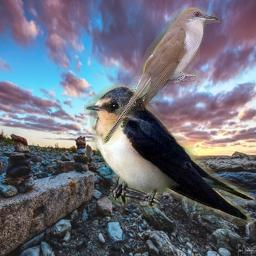Cuckoo: (102, 7, 220, 145)
Swallow: (84, 83, 255, 226)
